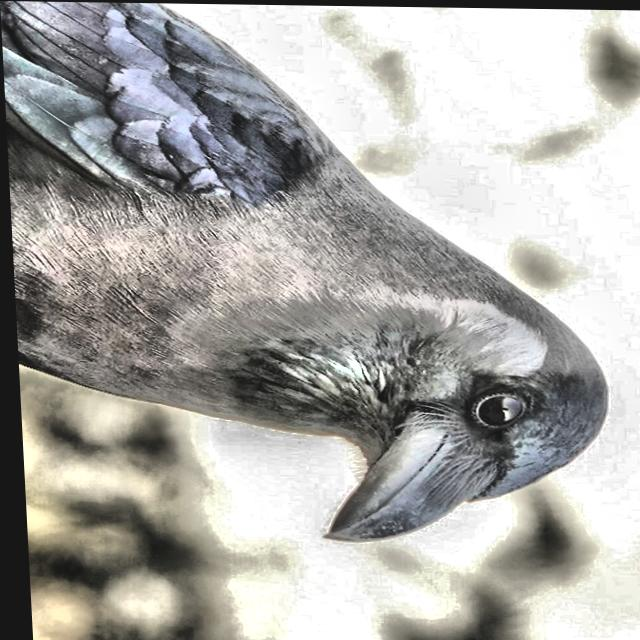crow: (0, 0, 617, 551)
